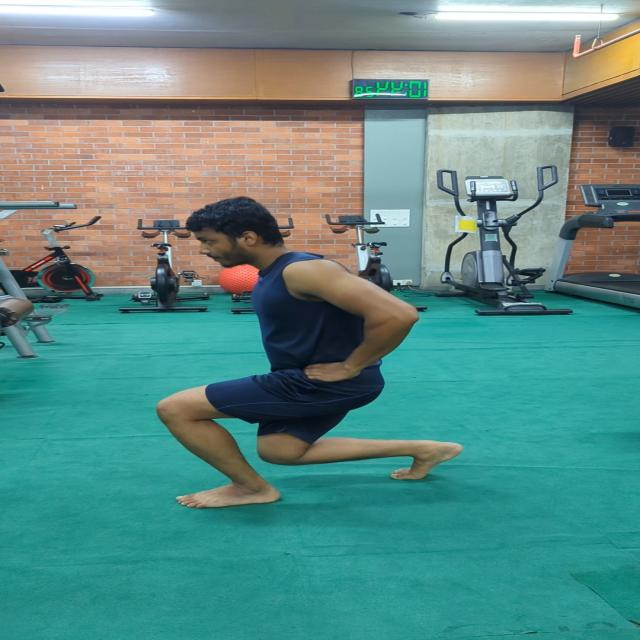Normal_Lunges: (141, 187, 479, 516)
